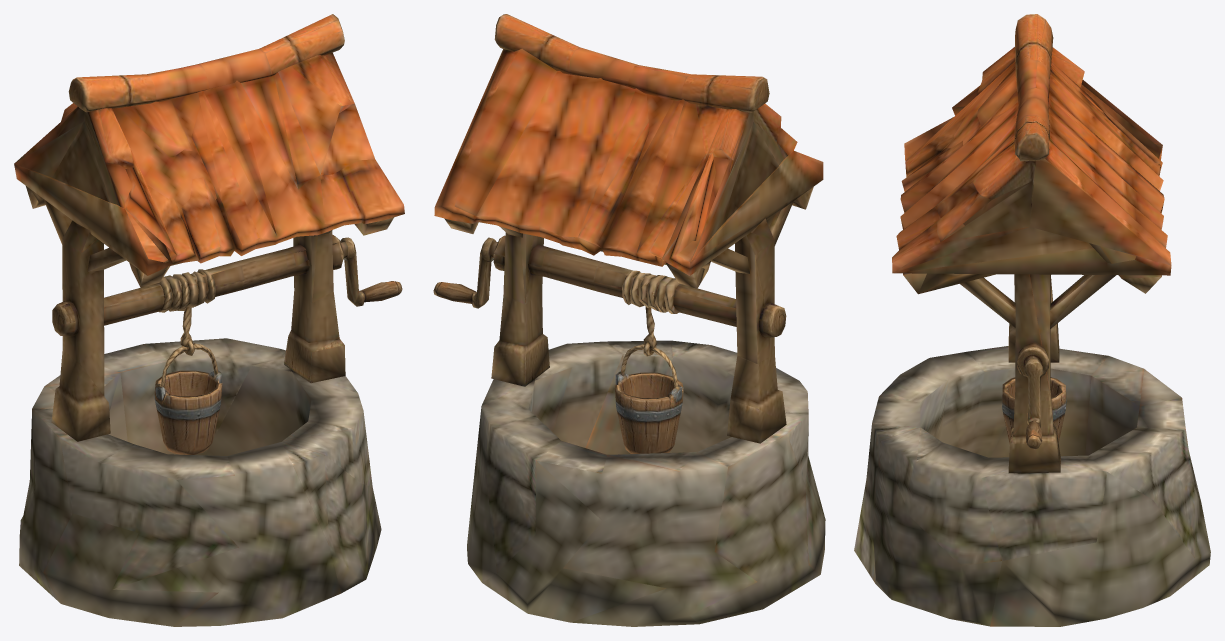
Rendered from well.glb.
3 renders of one model, left to right at view 1: azimuth 30°, elevation 25°; view 2: azimuth 150°, elevation 25°; view 3: azimuth 270°, elevation 25°, orthographic. The views are drawn at different scales.
Visible parts, largest first — view 1: well; view 2: well; view 3: well.
Boxes of the visible parts, x1,y1,x2,y2 form: well: [14, 14, 404, 626]; well: [433, 14, 825, 626]; well: [854, 14, 1210, 626].
Size of the model in its own units: 0.985 by 1.3 by 0.864.
1 material, 1 textured.
